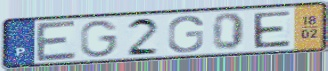0: (211, 11, 247, 53)
2: (124, 16, 162, 56)
E: (35, 18, 79, 63), (251, 9, 293, 50)
G: (79, 19, 121, 59), (166, 14, 206, 54)
